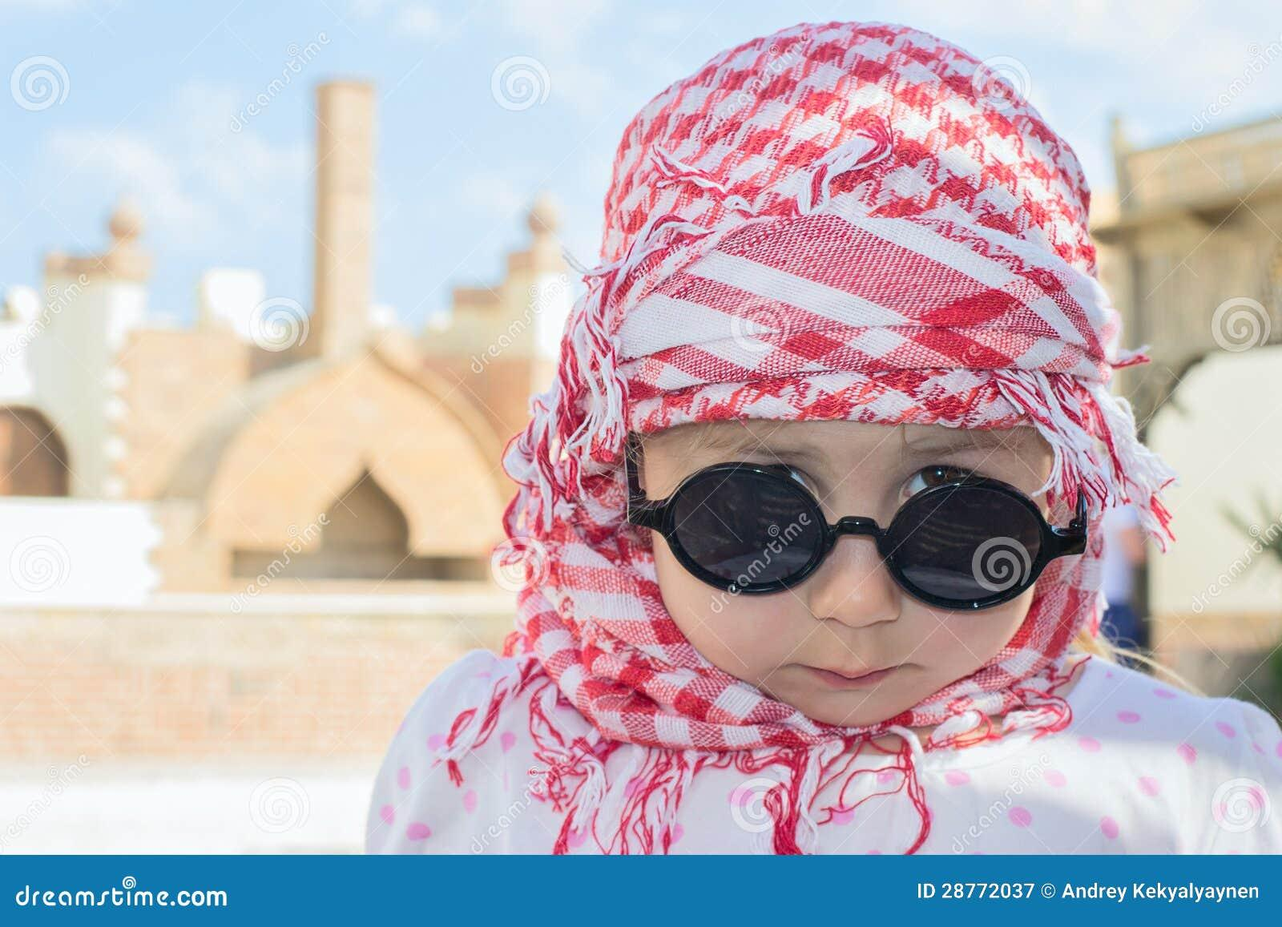cap: (561, 6, 1143, 435)
sunglasses: (649, 443, 1052, 649)
